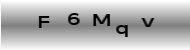6: (66, 11, 80, 26)
F: (37, 14, 51, 29)
M: (92, 13, 111, 27)
q: (115, 24, 129, 38)
v: (140, 16, 154, 28)
